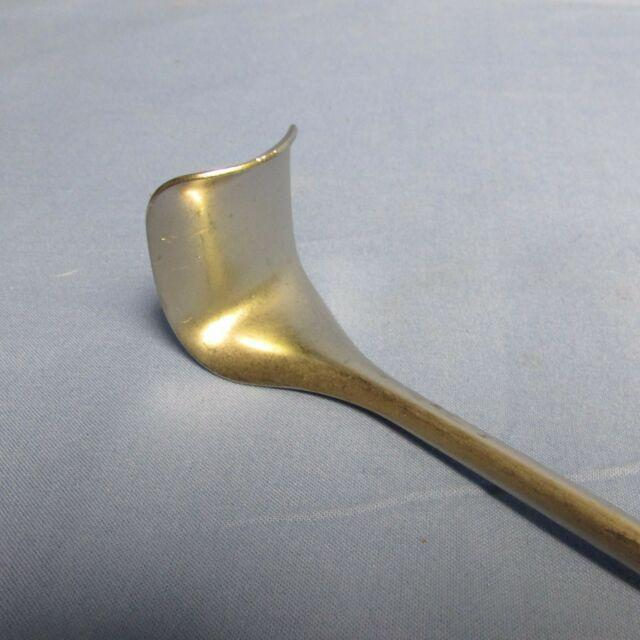Richardson: (141, 117, 640, 582)
